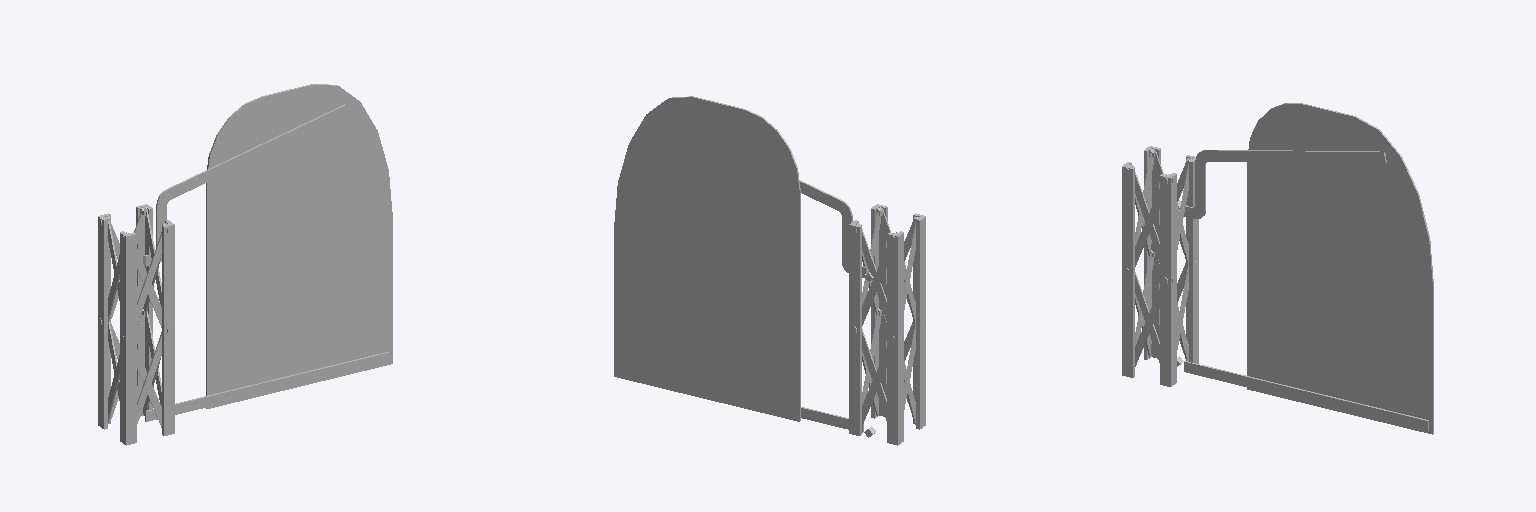
File: lms_post_lattice_backplate_mid.obj
3 renders of one model, left to right at view 1: azimuth 30°, elevation 25°; view 2: azimuth 150°, elevation 25°; view 3: azimuth 330°, elevation 25°, orthographic.
Visible parts, largest first — view 1: backplate_mid_lattice_Cube.030; view 2: backplate_mid_lattice_Cube.030; view 3: backplate_mid_lattice_Cube.030.
Boxes of the visible parts, x1=… form: backplate_mid_lattice_Cube.030: x1=98, y1=84, x2=392, y2=445; backplate_mid_lattice_Cube.030: x1=614, y1=96, x2=925, y2=445; backplate_mid_lattice_Cube.030: x1=1122, y1=103, x2=1433, y2=434.
Size of the model in its own units: 1.45 by 1.43 by 0.2528.